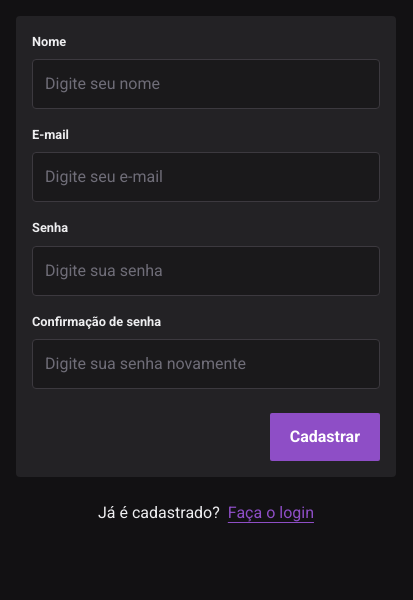
Test: SignupForm › should show validation errors
The width and height of the screenshot is (413, 600).
Click the button "Cadastrar": [325, 437] box 270,413 -> 380,461
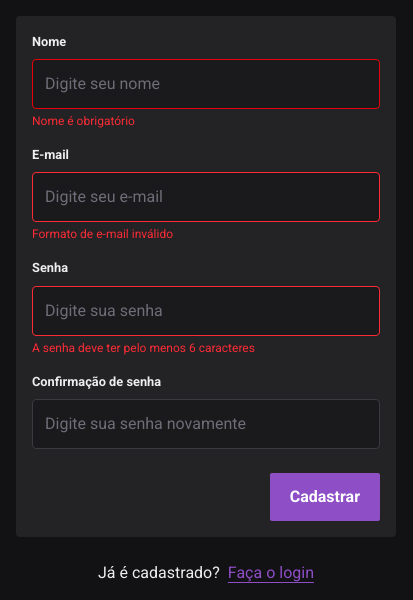
Expected: the text "Nome é obrigatório" is shown, 32,114 -> 135,128
Expected: the text "Formato de e-mail inválido" is shown, 32,227 -> 173,241
Expected: the text "A senha deve ter pelo menos 6 caracteres" is shown, 32,341 -> 255,355
